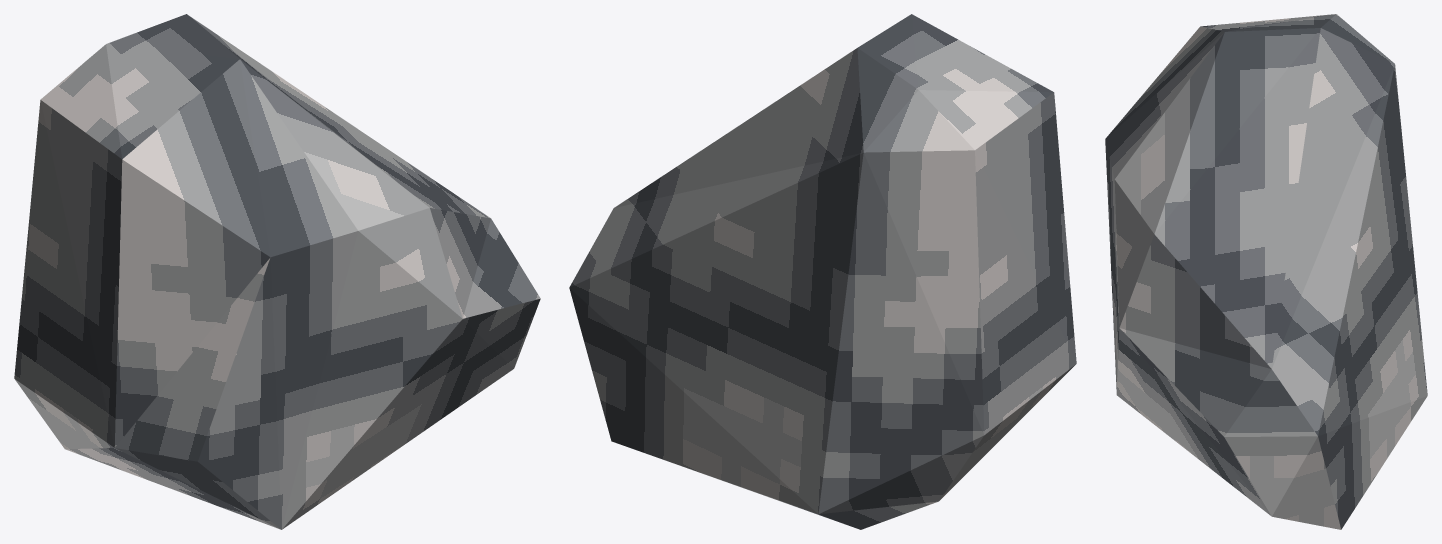
Rendered from Rock.dae.
3 views of the same model, side by side, from view 1: azimuth 30°, elevation 25°; view 2: azimuth 150°, elevation 25°; view 3: azimuth 270°, elevation 25° (orthographic). The views are drawn at different scales.
Visible parts, largest first — view 1: Rock; view 2: Rock; view 3: Rock.
Part boxes in pixels (x1,y1,x2,y2): Rock: [14, 14, 540, 529]; Rock: [569, 14, 1076, 529]; Rock: [1105, 14, 1427, 529].
Size of the model in its own units: 0.6644 by 0.4666 by 0.6642.
